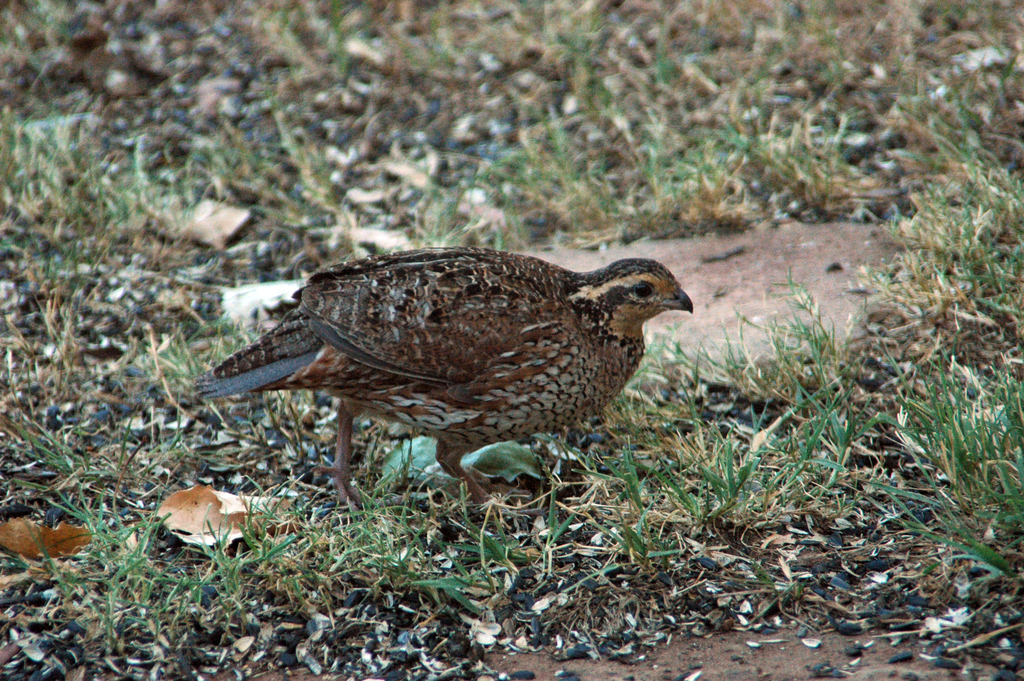Bird: (193, 246, 694, 506)
